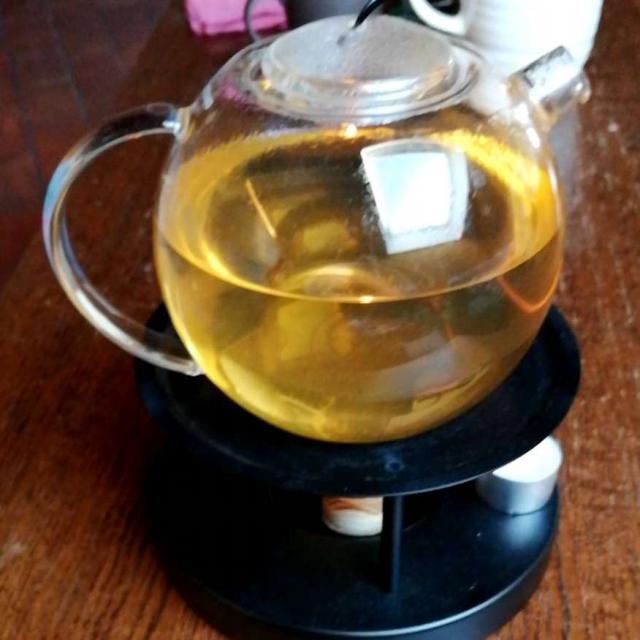tea-green: (160, 114, 555, 419)
